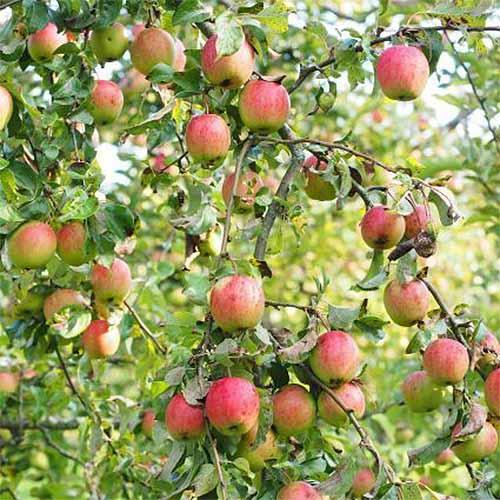apple: (203, 375, 258, 440), (200, 29, 258, 88), (374, 44, 429, 103), (208, 273, 265, 329), (237, 73, 289, 134), (307, 329, 362, 386), (126, 27, 183, 74), (6, 220, 56, 269), (89, 255, 131, 313), (360, 205, 407, 254), (184, 113, 230, 163), (382, 278, 429, 326), (449, 417, 498, 463), (317, 383, 368, 427), (421, 336, 468, 383), (271, 385, 315, 434), (400, 370, 451, 411), (165, 392, 205, 440), (26, 22, 70, 60), (89, 79, 123, 126), (89, 24, 129, 61), (81, 319, 117, 357), (54, 221, 87, 262)
